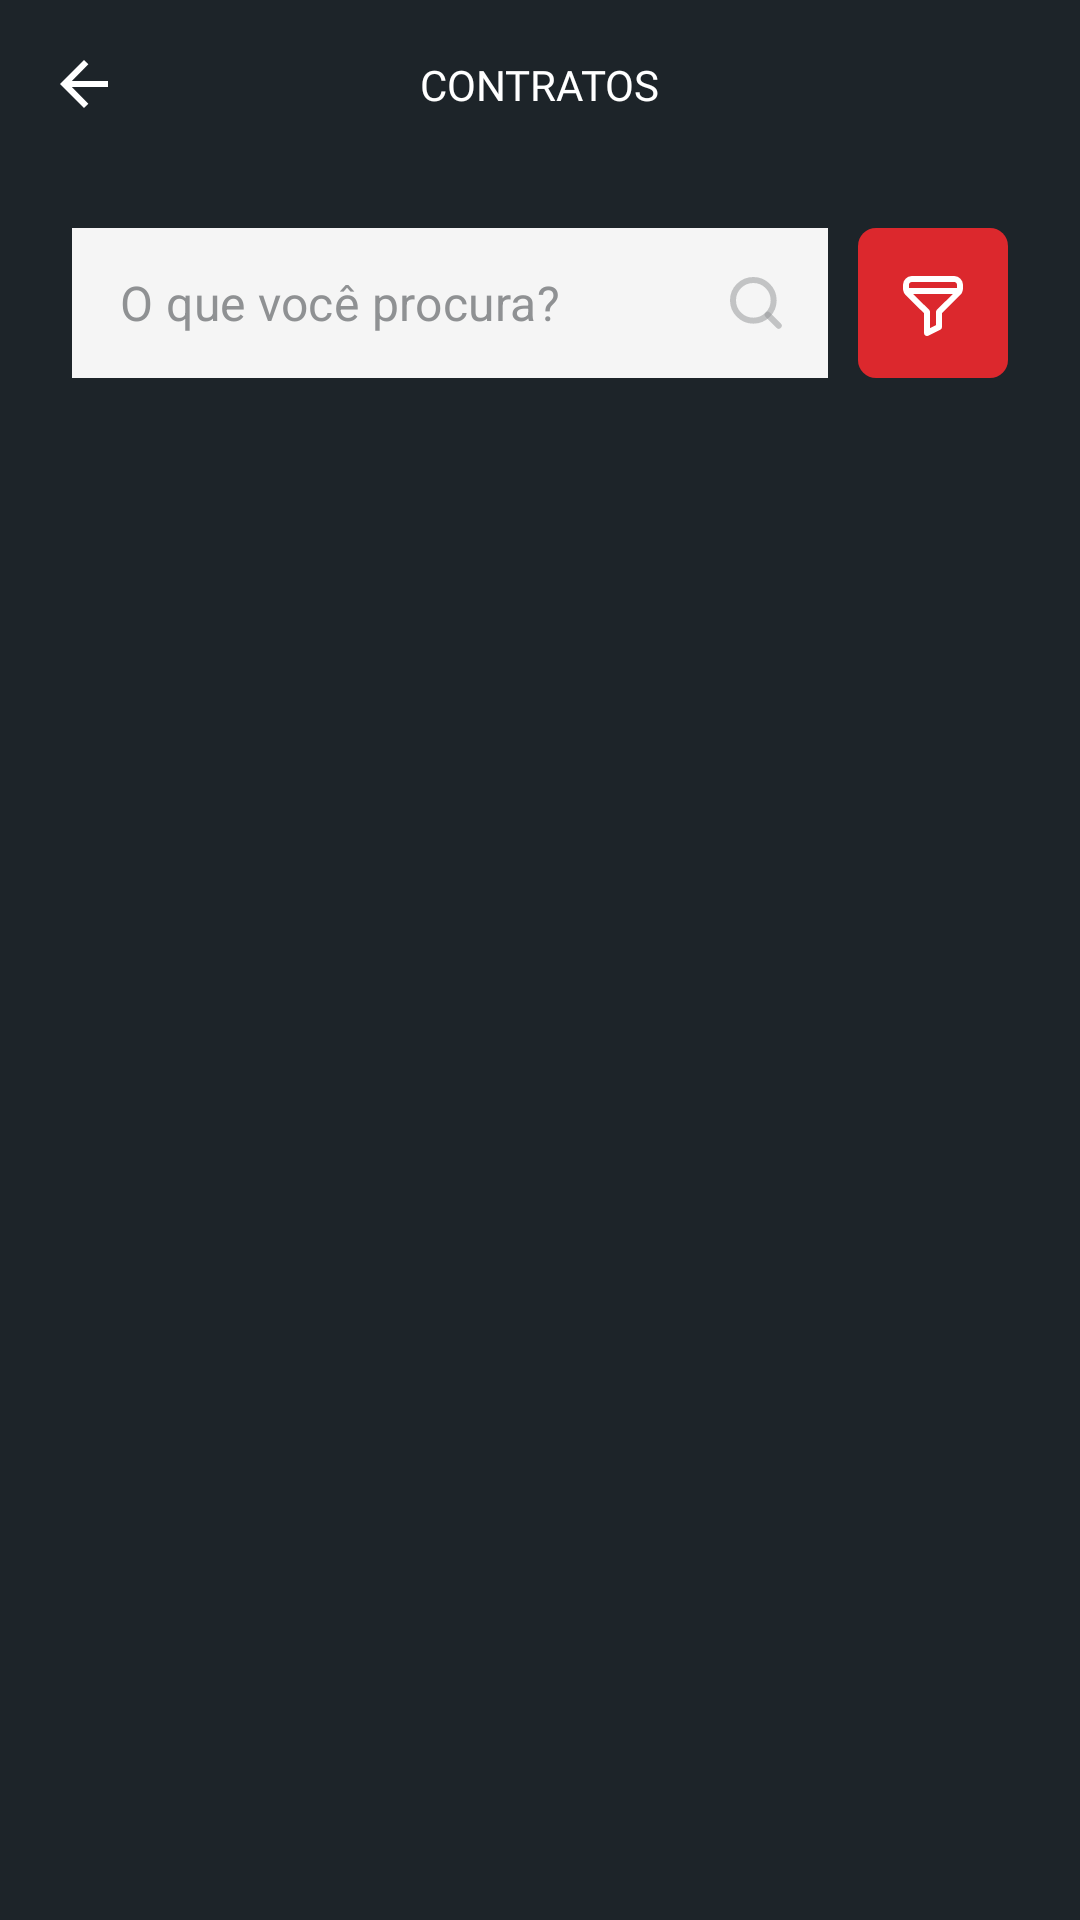

Icon click points for this 1080 × 1920 phone screenshot, format (x,y):
Filtro de contratos: (933,303)
left arrow: (84,84)
